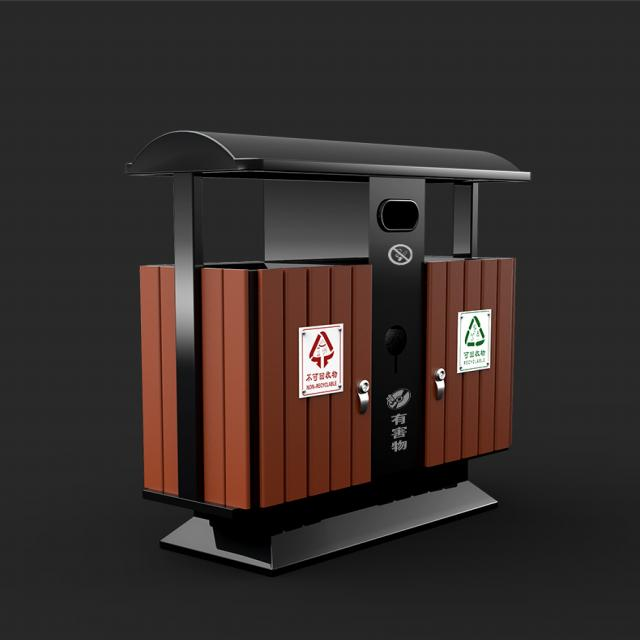ash bin: (118, 129, 534, 574)
